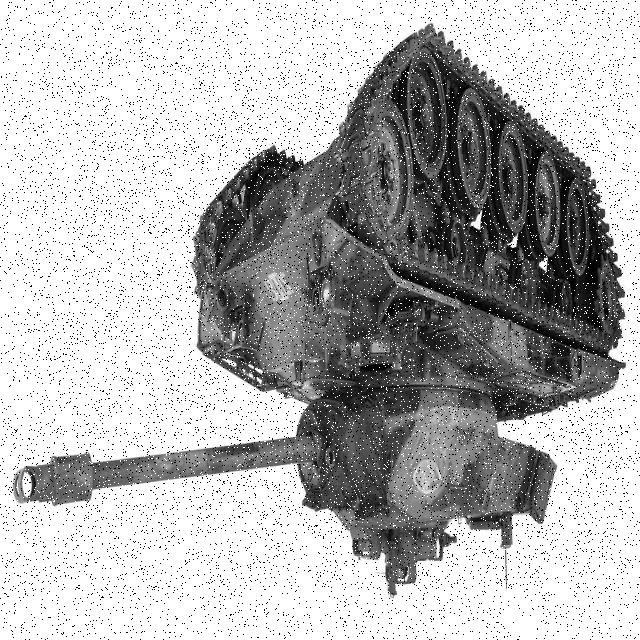MIL_MBT: (24, 52, 623, 591)
